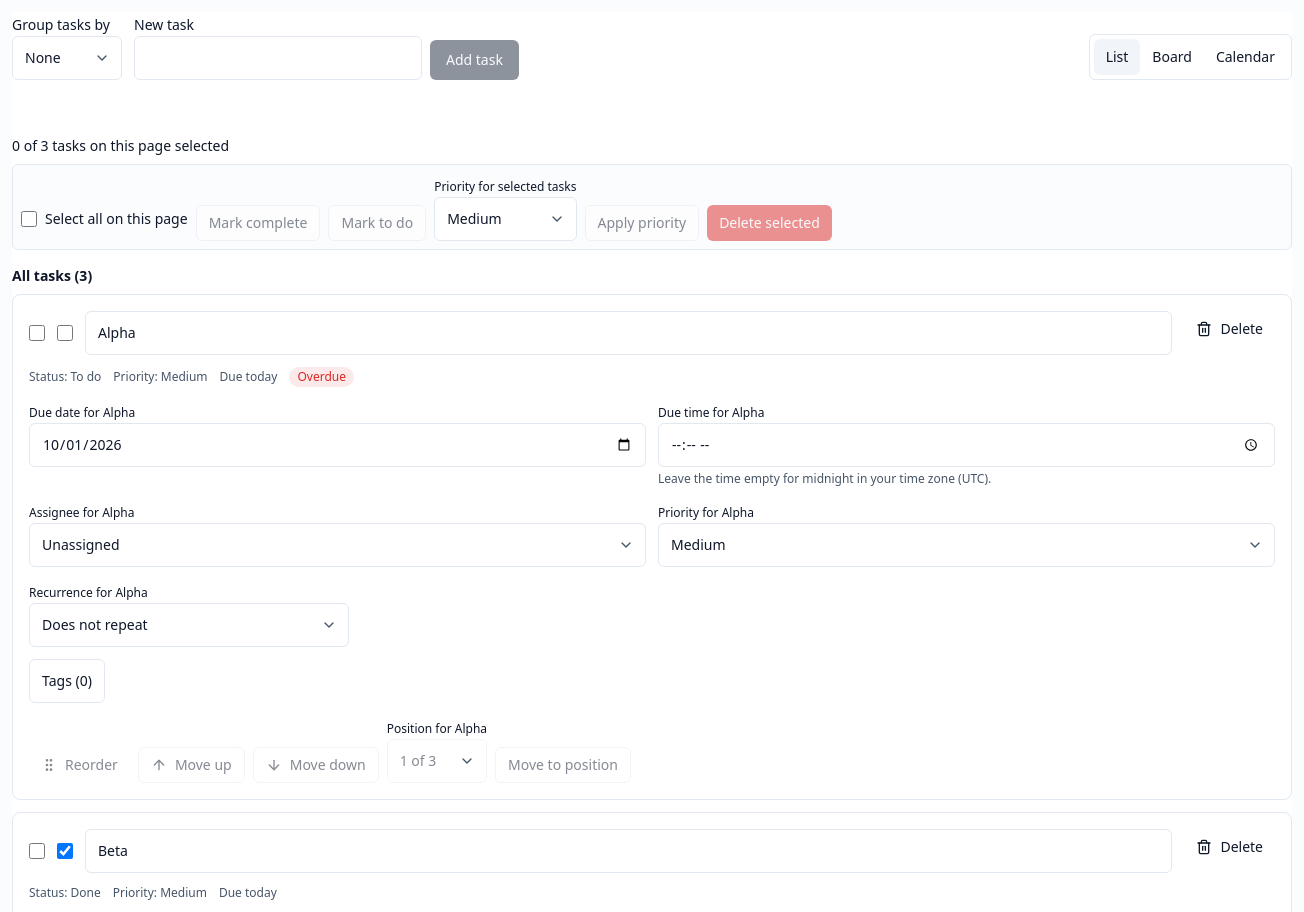
Scenario: TaskCalendar › windows the visible month only when the shared page is truncated
Click the button "Calendar": (1245, 57) [1204, 39, 1287, 75]
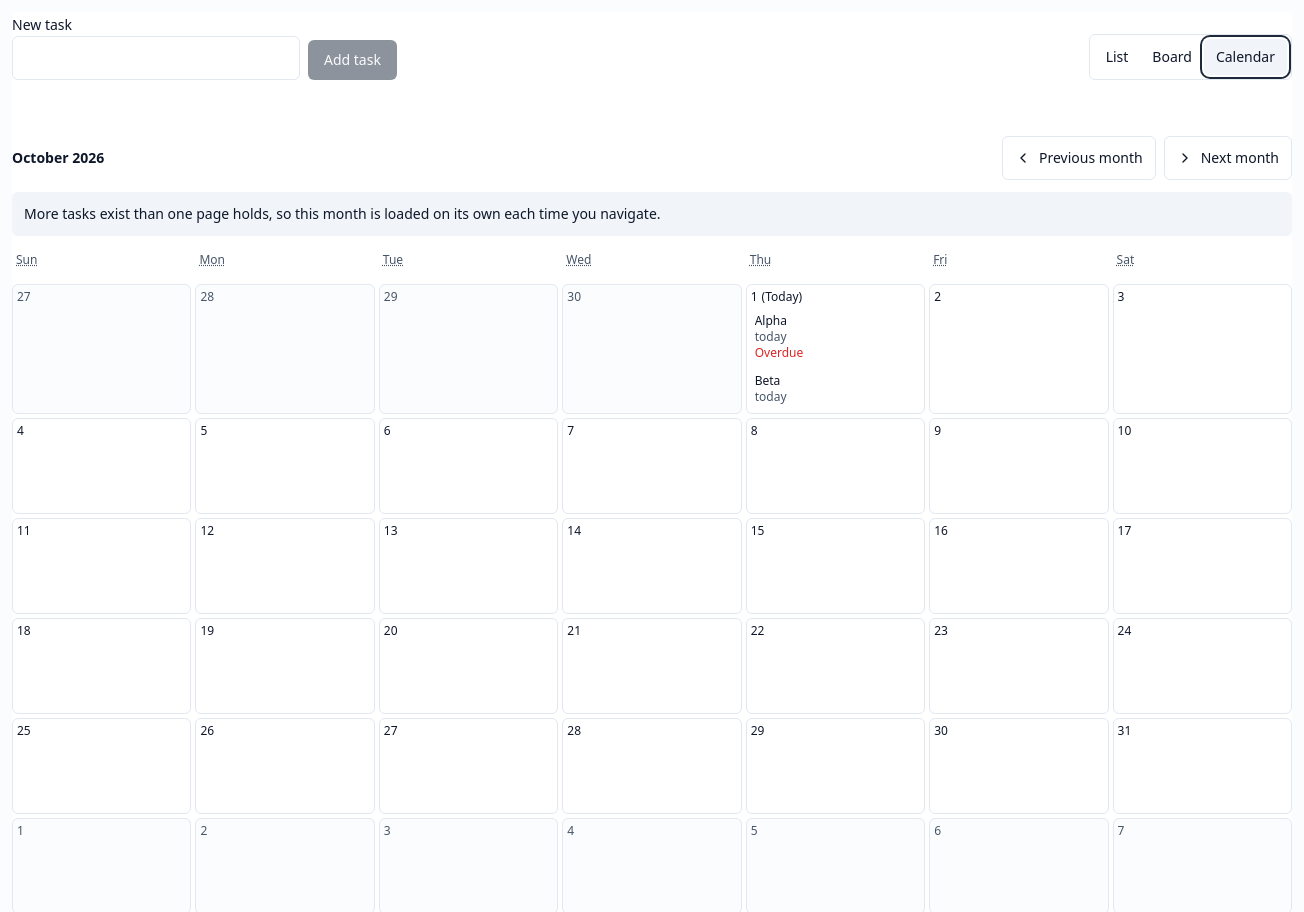
Expected: the text "this month is loaded on its own" is shown, [24, 204, 660, 223]
